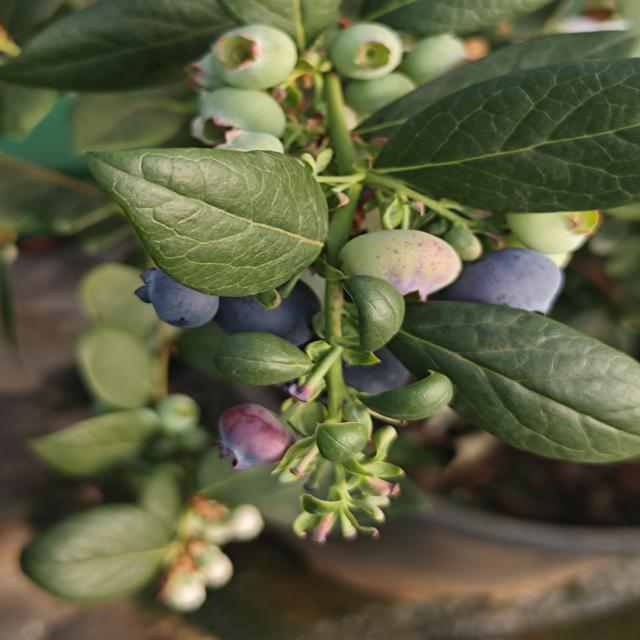ripe: (214, 256, 321, 348), (442, 245, 566, 318), (209, 401, 298, 473), (131, 265, 222, 331), (325, 338, 416, 402)
